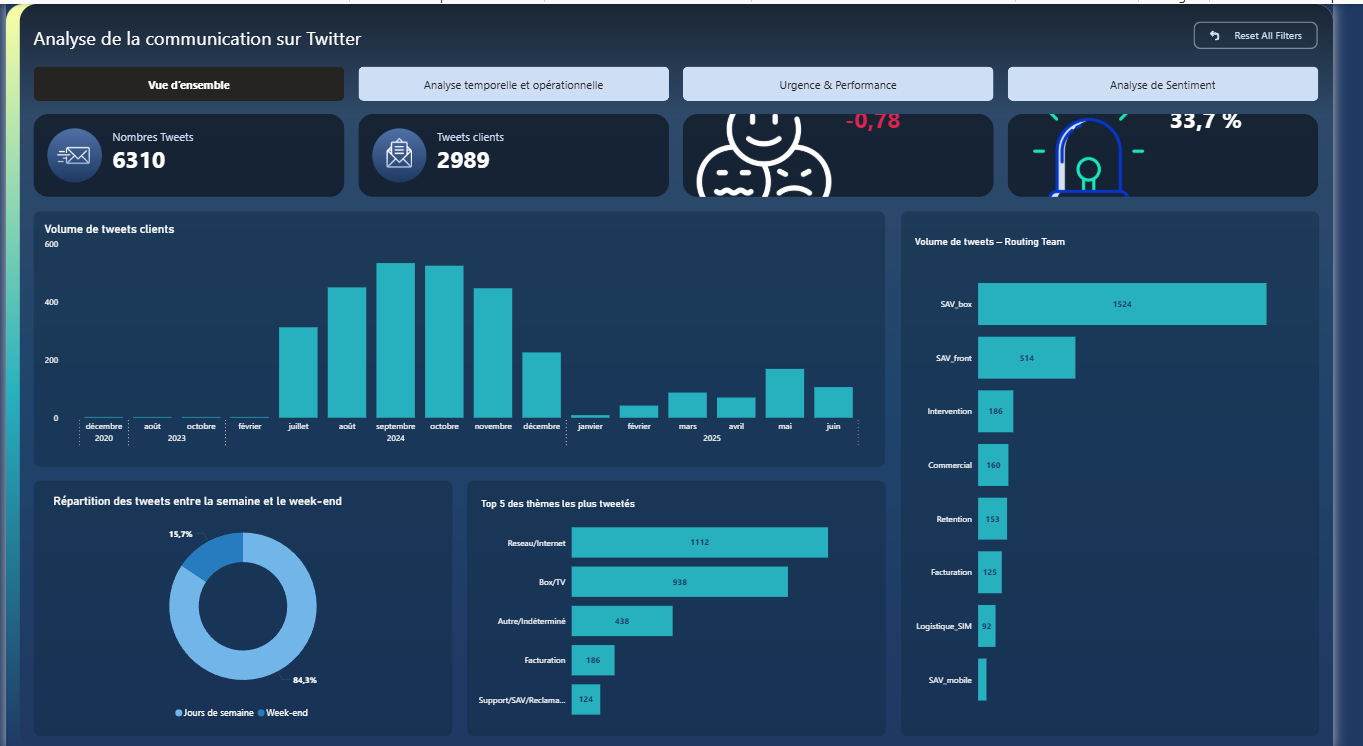

This screenshot's page, from the dashboard's own definition file:
{"tool":"powerbi","page":{"name":"Vue d’ensemble","canvas":[1920,1080],"ordinal":0},"visuals":[{"type":"textbox","box":[40,30,599.9,50],"z":0},{"type":"cardVisual","fields":{"Data":["_Measures.TotalEmails","_Measures.OpenedEmails","Mesures.Sentiment_Moyen","Mesures.Pct_Urgent"]},"box":[39.7,159.9,1864.6,120.2],"z":1000},{"type":"actionButton","box":[1720.1,25,180,40],"z":2000},{"type":"pageNavigator","box":[40,90,1860,50],"z":4000},{"type":"cardVisual","fields":{"Data":["Dynamic Titles.Selected Employee"]},"box":[1305,315,398.5,51.8],"z":5000},{"type":"columnChart","title":"Volume de tweets clients","fields":{"Y":["Mesures.Nb_Tweets_clients"],"Category":["Calendrier.Annee","Calendrier.Mois"]},"box":[49.8,315.1,1209.3,335.3],"z":8000},{"type":"barChart","fields":{"Y":["Mesures.Nb_Tweets_clients"],"Category":["tweets_scored_llm_new.primary_label"]},"box":[663.8,722.5,566.2,336.2],"z":9000},{"type":"donutChart","title":"Répartition des tweets entre la semaine et le week-end","fields":{"Y":["Mesures.Nb_Tweets_Clients_JoursOuvrés","Mesures.Nb_Tweets_Clients_Weekend"]},"box":[62.5,709.3,559.8,335.6],"z":10000},{"type":"cardVisual","fields":{"Data":["Dynamic Titles.Selected Topic"]},"box":[677.5,696.2,400,46.2],"z":11000},{"type":"barChart","fields":{"Y":["Mesures.Nb_Tweets_clients"],"Category":["tweets_scored_llm_new.routing_team"]},"box":[1306,360,566,686],"z":12000}]}

Visuals, with their boxes in screenshot pixels (x1, y1, x2, y2), scaled from the page's 1920x1080 canvas onto the 1363x746 screenshot:
textbox: 28,21,454,55
cardVisual - _Measures.TotalEmails x _Measures.OpenedEmails: 28,110,1352,193
actionButton: 1221,17,1349,45
pageNavigator: 28,62,1349,97
cardVisual - Dynamic Titles.Selected Employee: 926,218,1209,253
"Volume de tweets clients" columnChart: 35,218,894,449
barChart - Mesures.Nb_Tweets_clients x tweets_scored_llm_new.primary_label: 471,499,873,731
"Répartition des tweets entre la semaine et le week-end" donutChart: 44,490,442,722
cardVisual - Dynamic Titles.Selected Topic: 481,481,765,513
barChart - Mesures.Nb_Tweets_clients x tweets_scored_llm_new.routing_team: 927,249,1329,723
